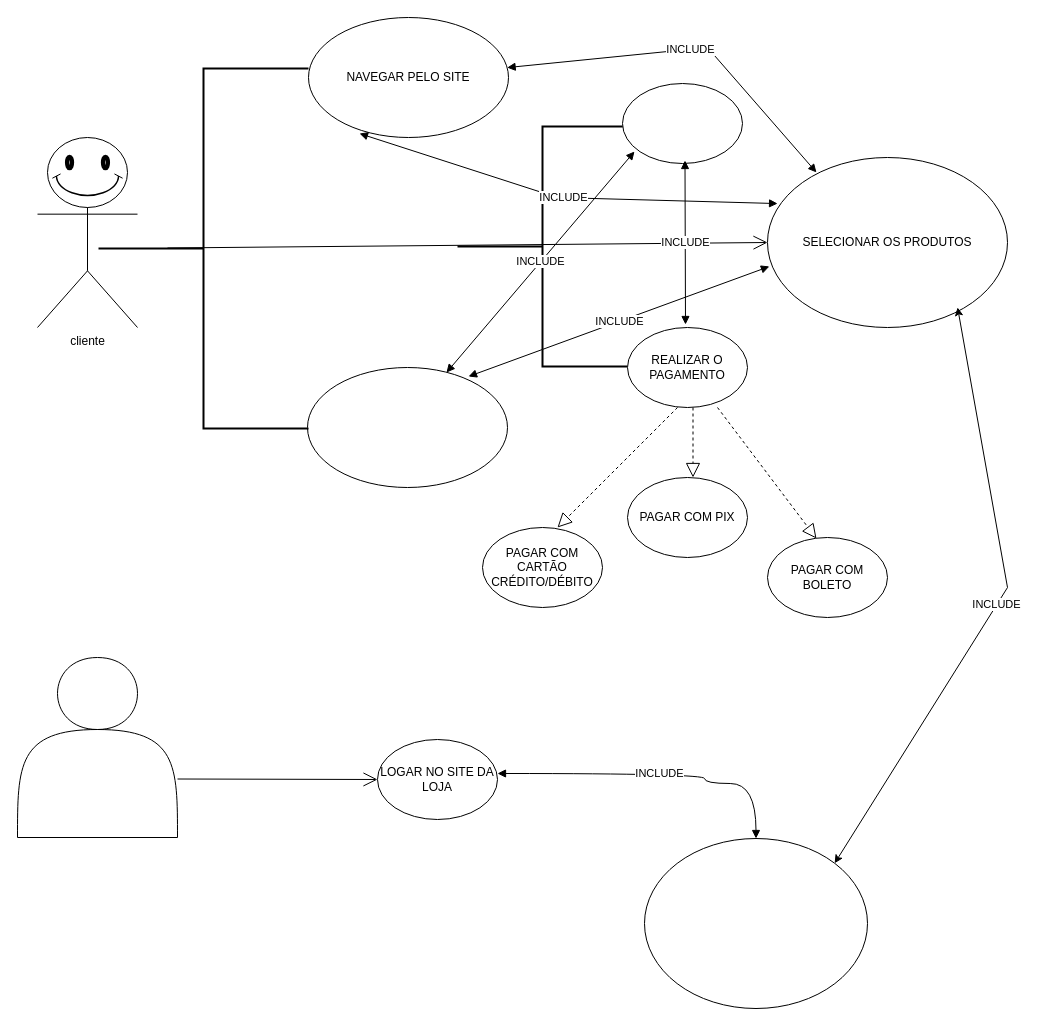
The diagram is 1038 pixels wide and 1026 high, and some of its shapes have lost their labels. Each missing label, with the centre of its shape:
"ADICIONAR PRODUTOS AO CARRINHO" goes at (x=407, y=427).
"CADASTRAR PRODUTOS" goes at (x=756, y=923).
"FINALIZAR A COMPRA" goes at (x=682, y=123).
"FORNECEDOR" goes at (x=97, y=747).
